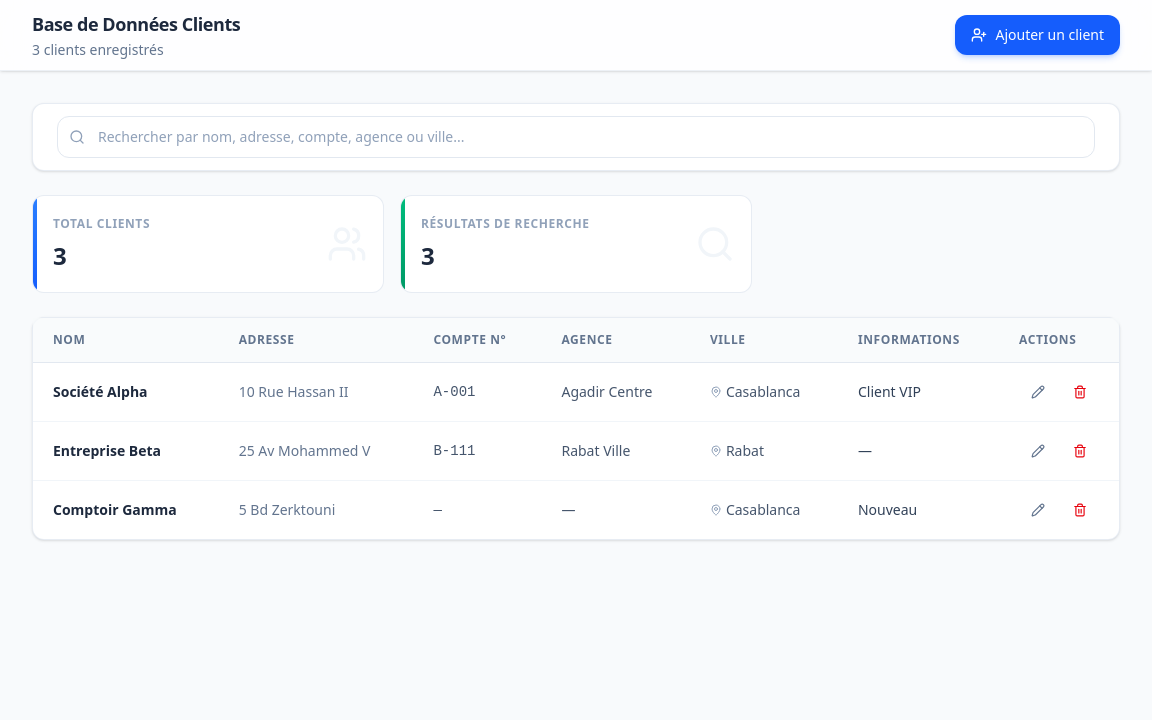
Scenario: CustomersPage › recherche › filtre par ville
Expected: the text "Société Alpha" is shown, [53, 382, 148, 401]
Type "Rabat" into the field with placeholder "Rechercher par nom, adresse, compte, agence ou ville..." at {"x": 576, "y": 137}, box [57, 116, 1095, 158]
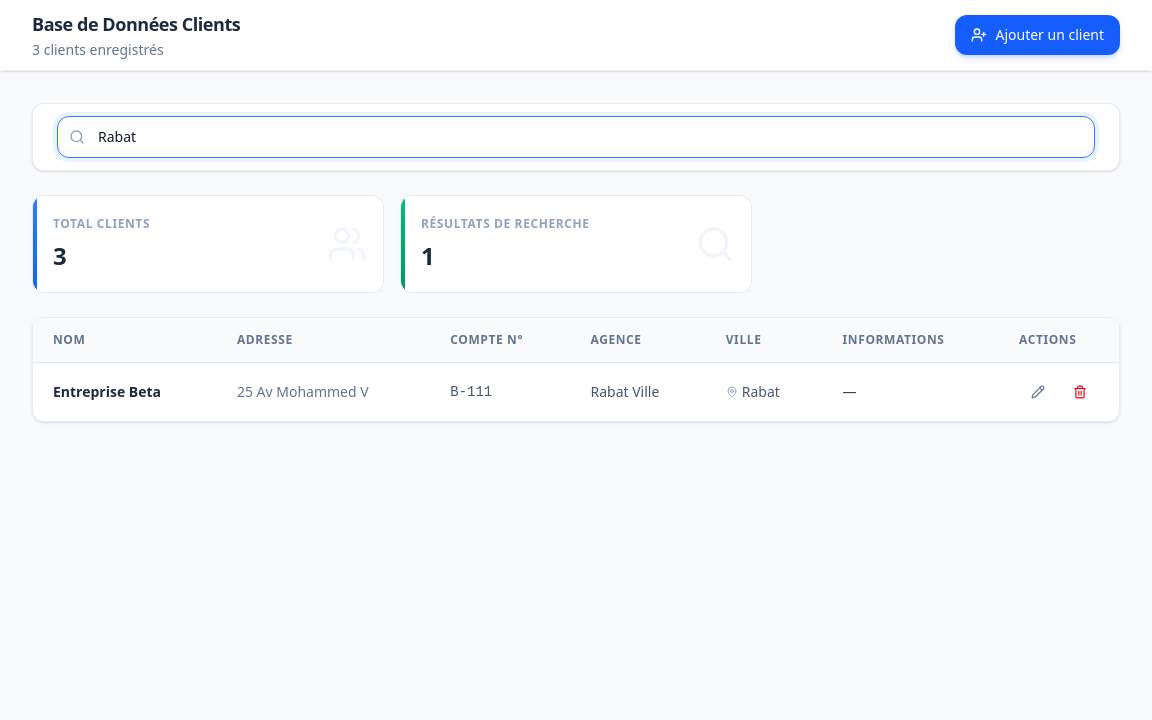
Expected: the text "Entreprise Beta" is shown, [53, 382, 161, 401]
Expected: the text "Société Alpha" is gone
